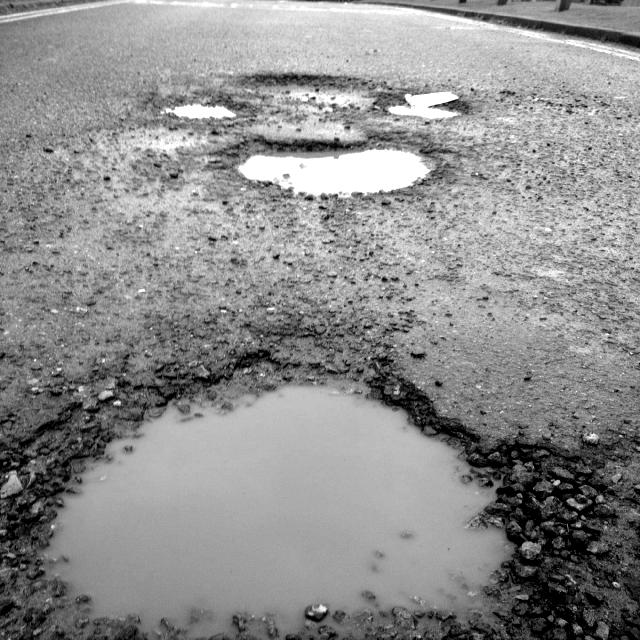pathole: (0, 314, 629, 640), (129, 55, 497, 218)
